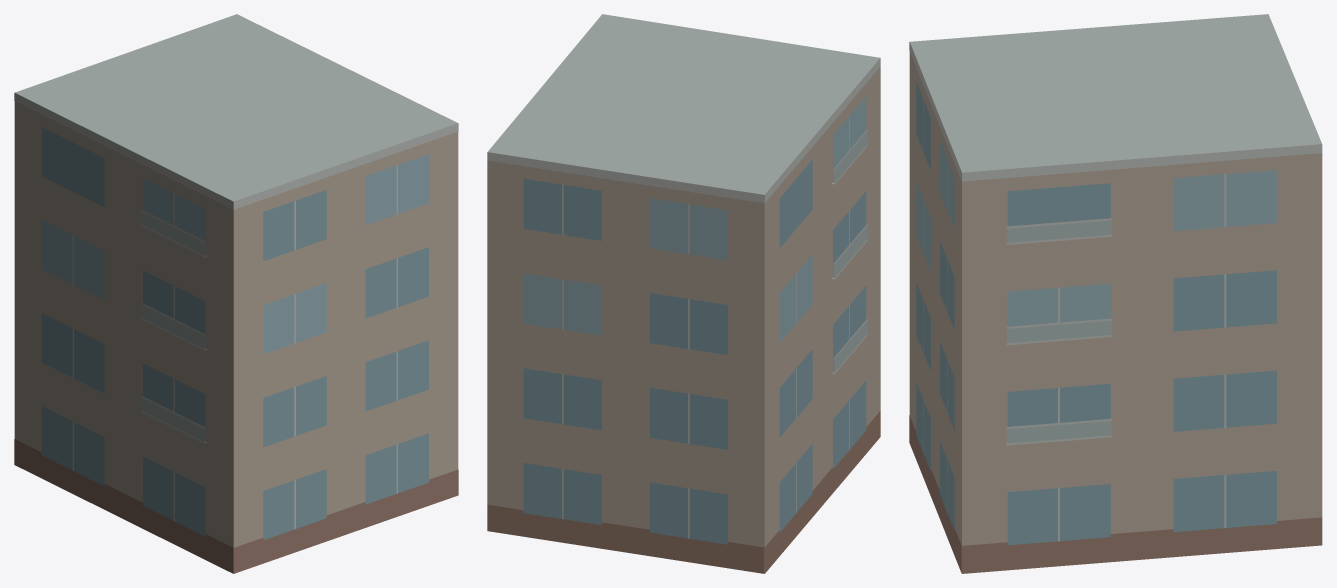
The model's file is survey-upis-32711806.glb.
The picture shows the model from 3 angles, left to right: view 1: azimuth 30°, elevation 25°; view 2: azimuth 150°, elevation 25°; view 3: azimuth 270°, elevation 25°; orthographic projection. The views are drawn at different scales.
Visible parts, largest first — view 1: survey-upis-32711806.tmp; view 2: survey-upis-32711806.tmp; view 3: survey-upis-32711806.tmp.
Boxes of the visible parts, bbox=[...] form: survey-upis-32711806.tmp: bbox=[14, 14, 458, 573]; survey-upis-32711806.tmp: bbox=[487, 14, 880, 573]; survey-upis-32711806.tmp: bbox=[909, 14, 1322, 573].
Size of the model in its own units: 9.34 by 11 by 10.27.
